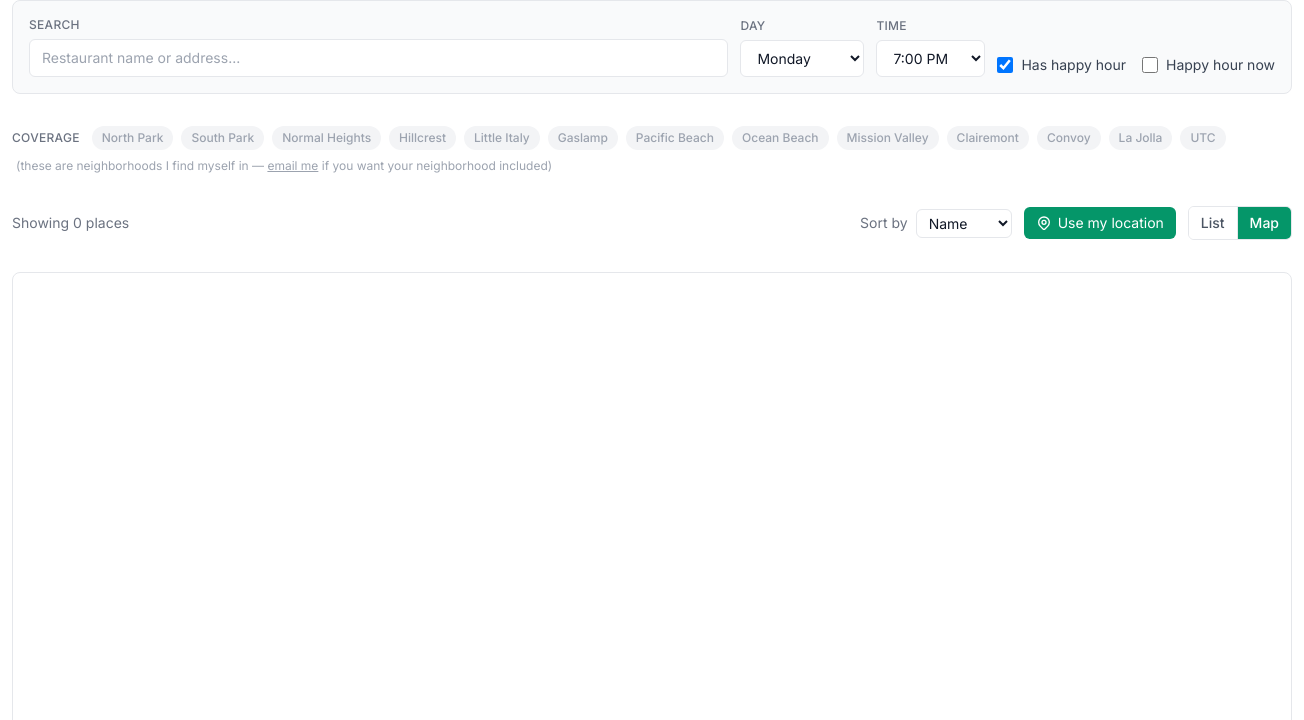
Test: HappyHourFinder - Restaurant Display › shows restaurant name for each place in the directory
Click the button "List": (1213, 223) x1=1189 y1=207 x2=1237 y2=239
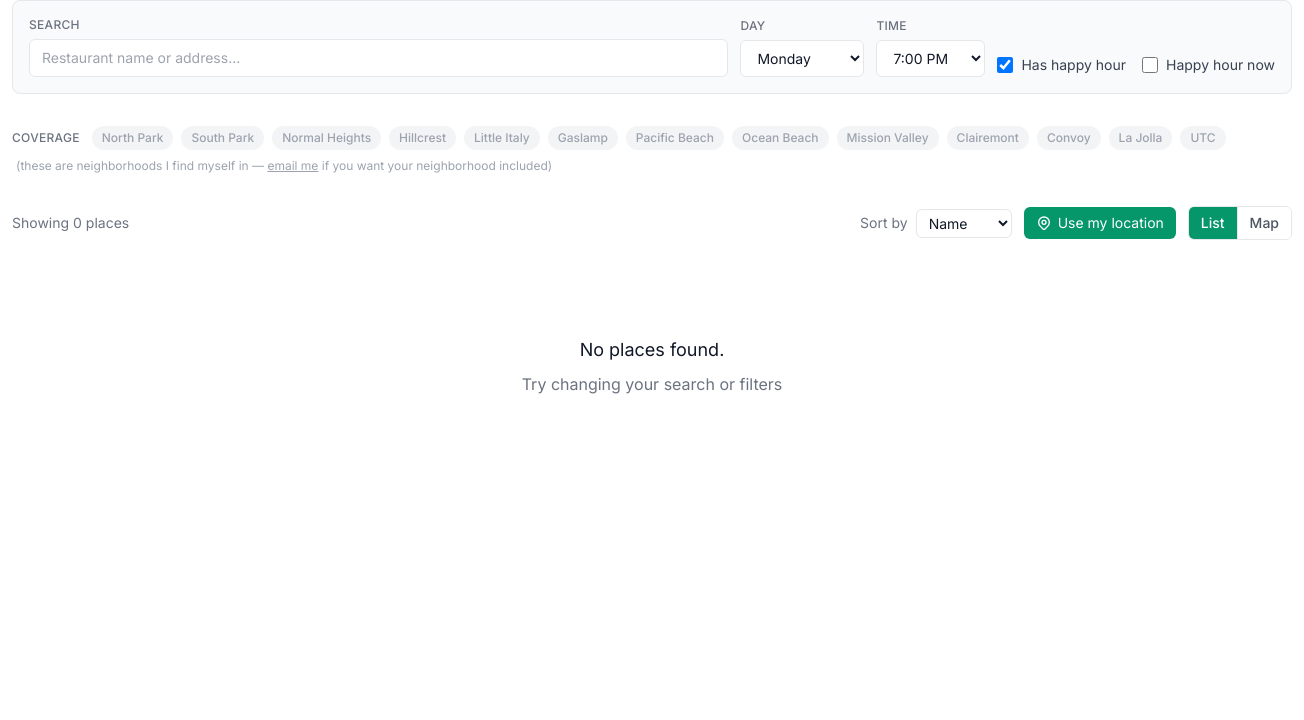
Click the checkbox labelled "Has happy hour": (1005, 65) x1=997 y1=57 x2=1013 y2=73
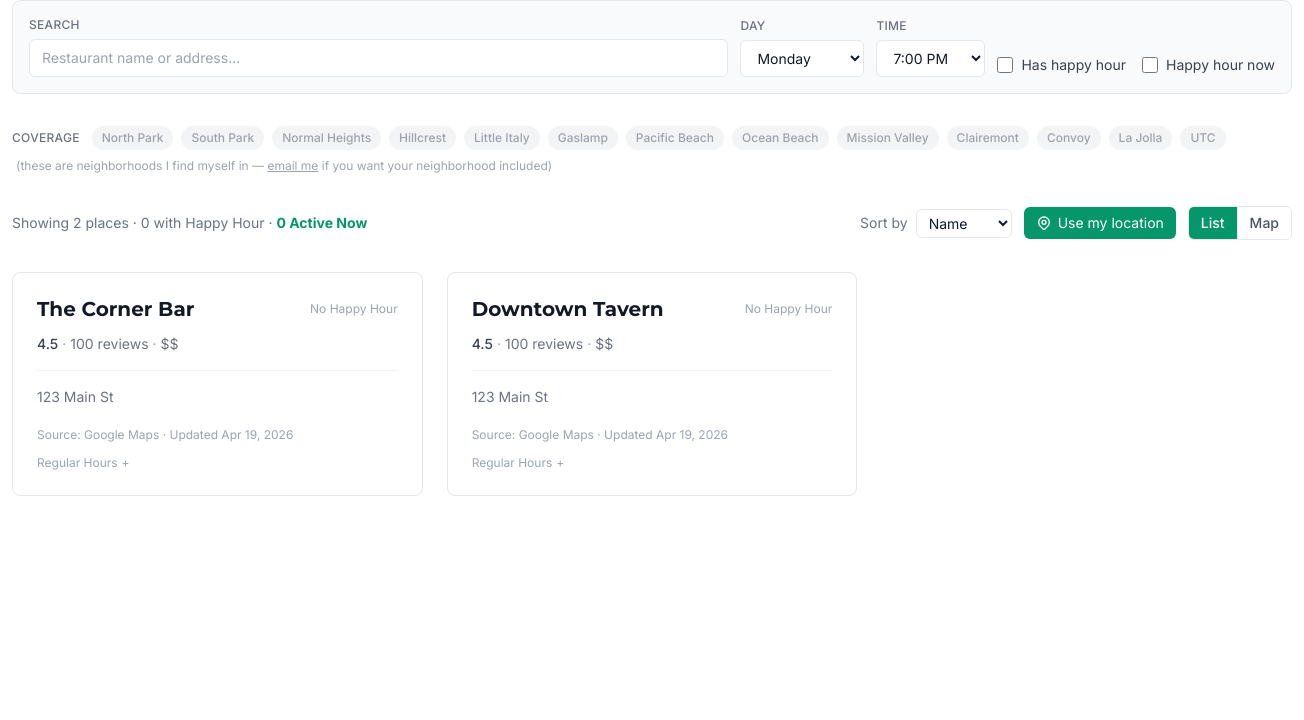
Now the heading "The Corner Bar" is shown, box x1=37 y1=297 x2=194 y2=322
Now the heading "Downtown Tavern" is shown, box x1=472 y1=297 x2=664 y2=322
